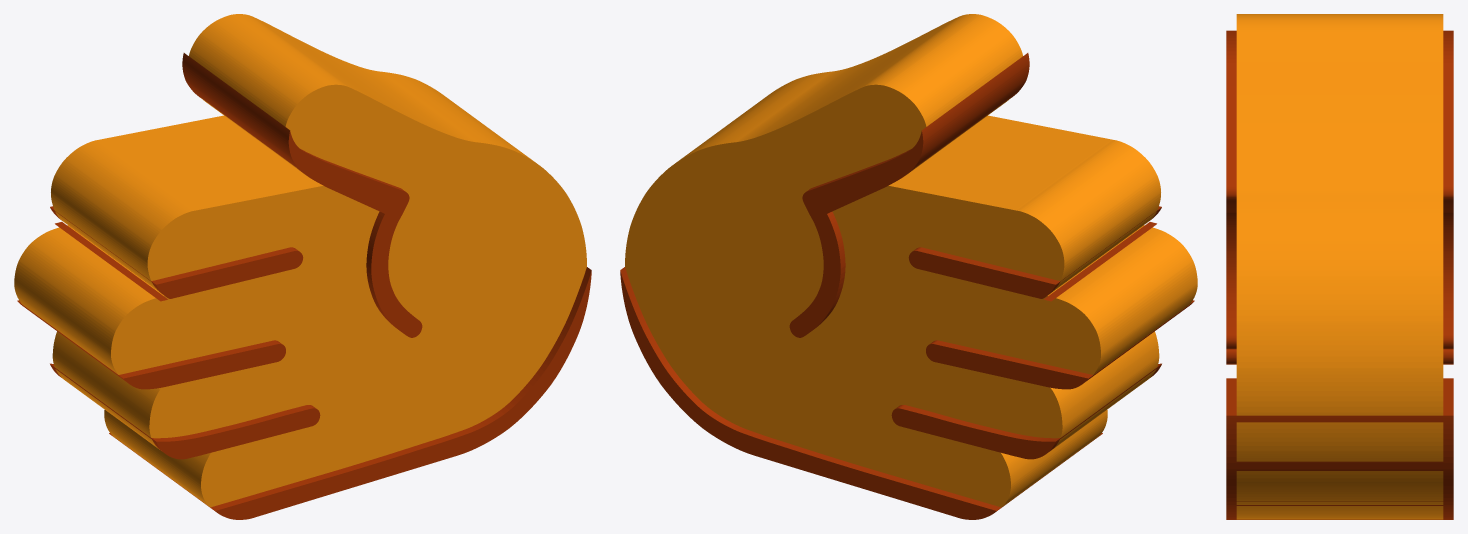
File: U+1FAF2.obj
3 views of the same model, side by side, from view 1: azimuth 30°, elevation 25°; view 2: azimuth 150°, elevation 25°; view 3: azimuth 270°, elevation 25° (orthographic). The views are drawn at different scales.
Visible parts, largest first — view 1: U+1FAF2_layer00_obj00, U+1FAF2_layer01_obj00; view 2: U+1FAF2_layer00_obj00, U+1FAF2_layer01_obj00; view 3: U+1FAF2_layer00_obj00, U+1FAF2_layer01_obj00.
Boxes of the visible parts, bbox=[...] form: U+1FAF2_layer00_obj00: bbox=[14, 14, 586, 507]; U+1FAF2_layer01_obj00: bbox=[17, 53, 591, 519]; U+1FAF2_layer00_obj00: bbox=[625, 14, 1197, 507]; U+1FAF2_layer01_obj00: bbox=[620, 53, 1194, 519]; U+1FAF2_layer00_obj00: bbox=[1236, 14, 1443, 519]; U+1FAF2_layer01_obj00: bbox=[1226, 30, 1453, 519].
Size of the model in its own units: 0.5684 by 0.4673 by 0.22.
